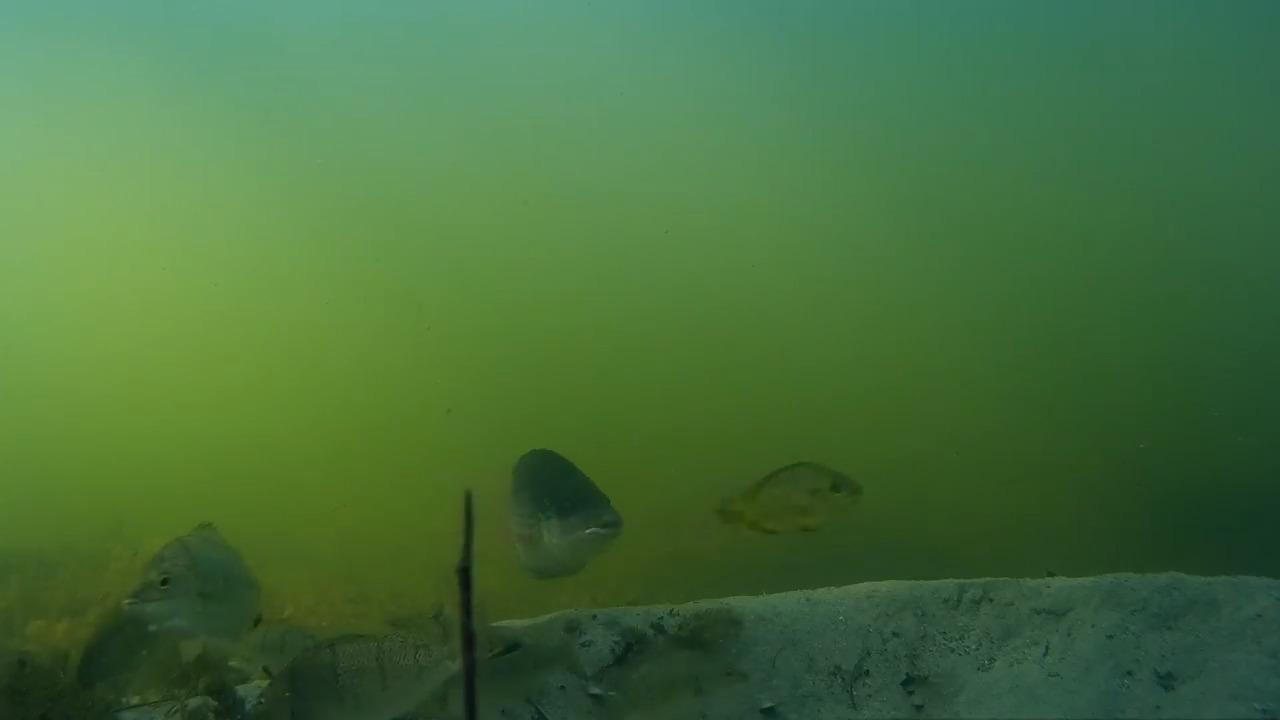Tilapia: (45, 519, 273, 720), (482, 447, 634, 595), (244, 634, 481, 720), (710, 460, 877, 545)
